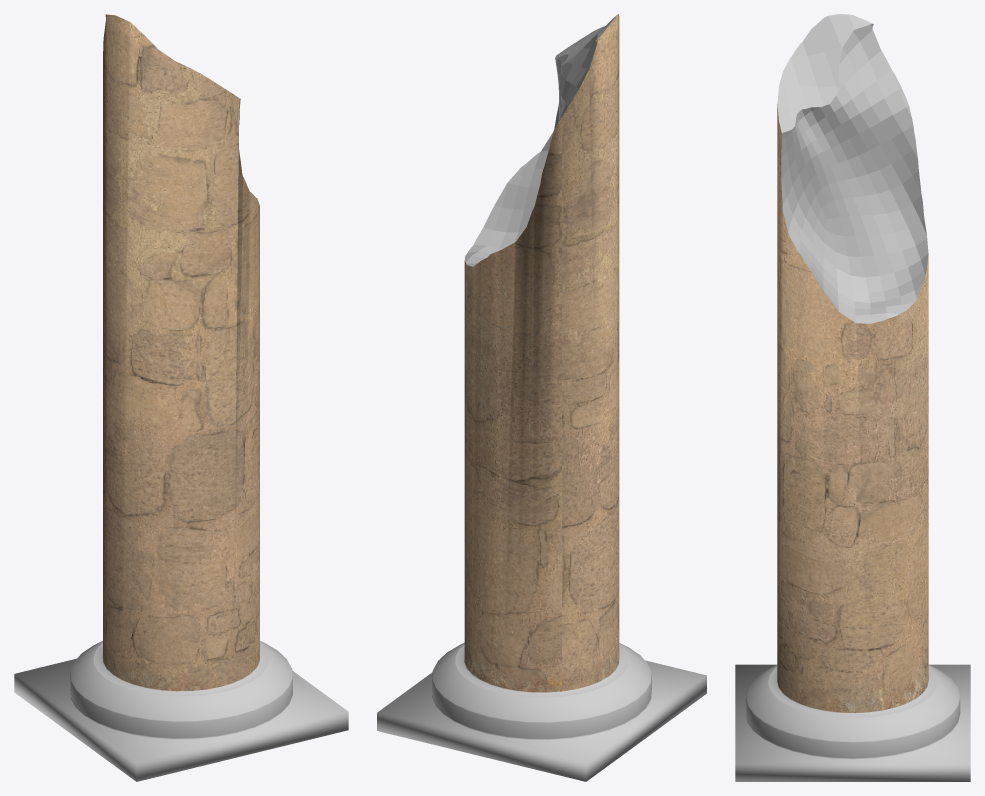
The model's file is BrokenPillar.gltf.
3 views of the same model, side by side, from view 1: azimuth 30°, elevation 25°; view 2: azimuth 150°, elevation 25°; view 3: azimuth 270°, elevation 25° (orthographic). The views are drawn at different scales.
Parts seen in each view (by area): view 1: BrokenPillar; view 2: BrokenPillar; view 3: BrokenPillar.
Part boxes in pixels (bbox=[...]): BrokenPillar: bbox=[14, 14, 348, 781]; BrokenPillar: bbox=[377, 14, 706, 781]; BrokenPillar: bbox=[735, 14, 970, 781].
Size of the model in its own units: 1.27 by 4.09 by 1.27.
